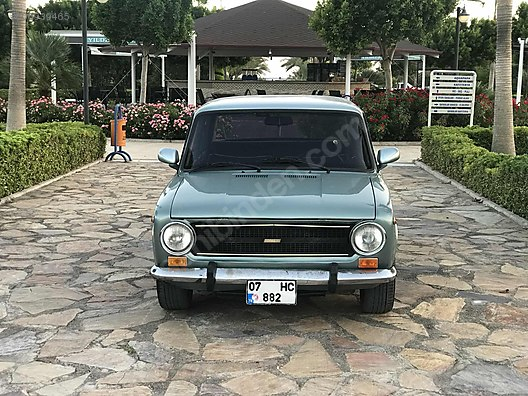murat: (149, 88, 401, 314)
